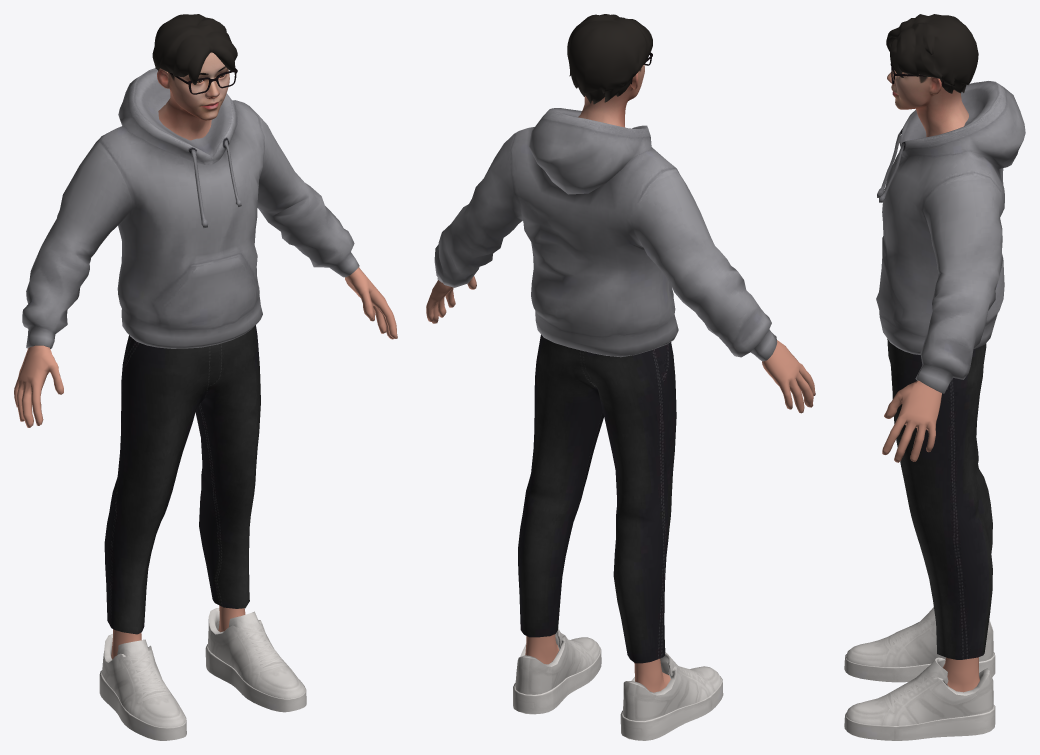
Rendered from ReadyPlayerModelDanny.fbx.
3 renders of one model, left to right at view 1: azimuth 30°, elevation 25°; view 2: azimuth 150°, elevation 25°; view 3: azimuth 270°, elevation 25°, orthographic.
Visible parts, largest first — view 1: Wolf3D_Outfit_Top, Wolf3D_Outfit_Bottom, Wolf3D_Outfit_Footwear, Wolf3D_Body, Wolf3D_Hair, Wolf3D_Head; view 2: Wolf3D_Outfit_Top, Wolf3D_Outfit_Bottom, Wolf3D_Outfit_Footwear, Wolf3D_Hair, Wolf3D_Body, Wolf3D_Head; view 3: Wolf3D_Outfit_Top, Wolf3D_Outfit_Bottom, Wolf3D_Outfit_Footwear, Wolf3D_Hair, Wolf3D_Body, Wolf3D_Head.
Part boxes in pixels (bbox=[...]): Wolf3D_Outfit_Top: bbox=[22, 68, 359, 348]; Wolf3D_Outfit_Bottom: bbox=[104, 325, 260, 634]; Wolf3D_Outfit_Footwear: bbox=[99, 608, 306, 740]; Wolf3D_Body: bbox=[14, 267, 397, 659]; Wolf3D_Hair: bbox=[152, 14, 237, 84]; Wolf3D_Head: bbox=[157, 52, 229, 140]; Wolf3D_Outfit_Top: bbox=[434, 108, 777, 361]; Wolf3D_Outfit_Bottom: bbox=[518, 334, 676, 663]; Wolf3D_Outfit_Footwear: bbox=[513, 629, 723, 740]; Wolf3D_Hair: bbox=[567, 14, 652, 104]; Wolf3D_Body: bbox=[426, 276, 815, 692]; Wolf3D_Head: bbox=[578, 64, 644, 127]; Wolf3D_Outfit_Top: bbox=[876, 81, 1025, 393]; Wolf3D_Outfit_Bottom: bbox=[887, 339, 992, 659]; Wolf3D_Outfit_Footwear: bbox=[844, 607, 995, 740]; Wolf3D_Hair: bbox=[886, 14, 978, 93]; Wolf3D_Body: bbox=[882, 380, 979, 692]; Wolf3D_Head: bbox=[887, 70, 968, 137].
Size of the model in its own units: 1.06 by 1.85 by 0.4455.
Materials: 9 (9 with a texture image).
